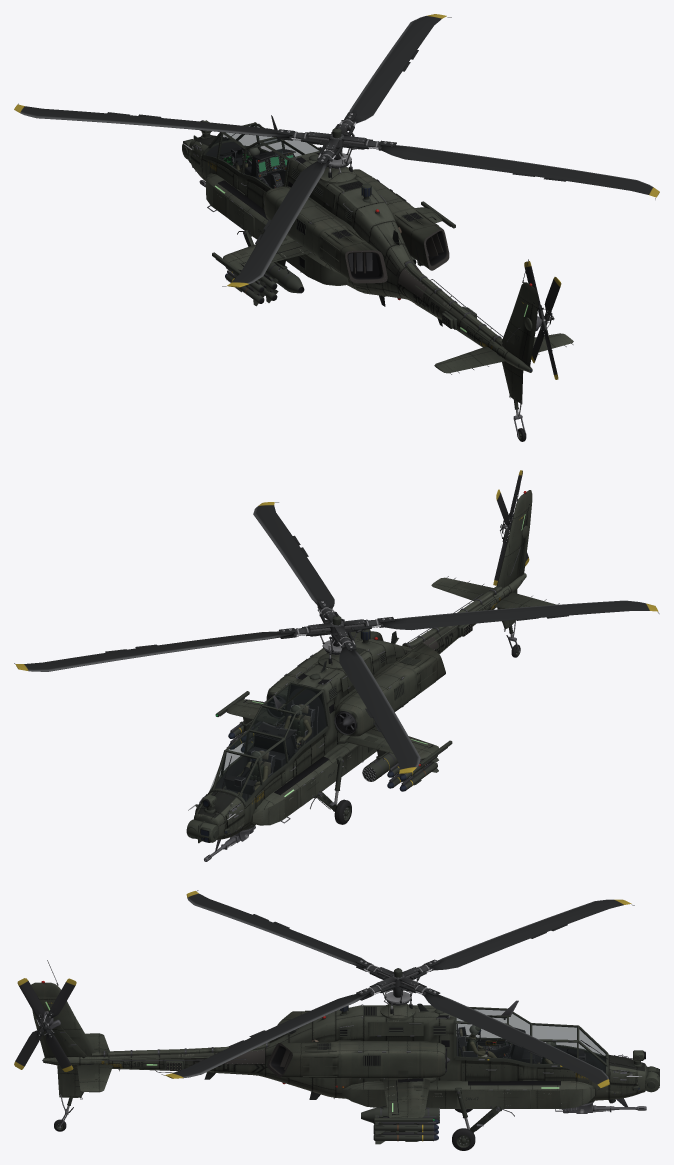
File: heli.glb
3 views of the same model, one above another, from view 1: azimuth 30°, elevation 25°; view 2: azimuth 150°, elevation 25°; view 3: azimuth 270°, elevation 25° (orthographic). The views are drawn at different scales.
Visible parts, largest first — view 1: MainRotor, Body, Nacelles, HullDetail, Canopy, Cheeks, Tail, Cockpit, CanopyFrame, TopDetail, TailRotor, Wings (+3 smaller); view 2: MainRotor, Body, Canopy, Nacelles, Cheeks, CanopyFrame, Cockpit, HullDetail, Wings, Tail, NoseDetail, TopDetail (+6 smaller); view 3: MainRotor, Body, Nacelles, Cheeks, HullDetail, Canopy, Tail, TailRotor, Wings, Part_CowlR, CanopyFrame, Cockpit (+12 smaller).
Part boxes in pixels (x1,y1,x2,y2): MainRotor: (14, 14, 659, 287); Body: (189, 135, 532, 372); Nacelles: (264, 169, 449, 283); HullDetail: (210, 160, 502, 351); Canopy: (204, 124, 318, 188); Cheeks: (206, 173, 349, 285); Tail: (497, 292, 541, 441); Cockpit: (220, 139, 295, 188); CanopyFrame: (202, 122, 320, 190); TopDetail: (288, 153, 401, 245); TailRotor: (524, 261, 561, 379); Wings: (227, 207, 437, 295); MainRotor: (14, 502, 659, 774); Body: (193, 573, 526, 839); Canopy: (209, 684, 327, 801); Nacelles: (266, 631, 445, 736); Cheeks: (222, 742, 376, 825); CanopyFrame: (207, 681, 329, 806); Cockpit: (223, 700, 318, 801); HullDetail: (255, 586, 503, 808); Wings: (230, 699, 434, 785); Tail: (496, 502, 532, 657); NoseDetail: (186, 695, 323, 851); TopDetail: (296, 629, 398, 713); MainRotor: (161, 890, 634, 1089); Body: (43, 1005, 646, 1100); Nacelles: (267, 1010, 450, 1078); Cheeks: (342, 1063, 594, 1111); HullDetail: (92, 1042, 590, 1099); Canopy: (456, 1008, 605, 1072); Tail: (32, 996, 95, 1131); TailRotor: (14, 978, 76, 1071); Wings: (378, 1077, 436, 1134); Part_CowlR: (351, 1051, 417, 1079); CanopyFrame: (453, 1006, 608, 1075); Cockpit: (456, 1018, 585, 1064).
Bounding box in the file's own units: 11.2 × 4.47 × 15.29.
30 materials, 6 textured.
